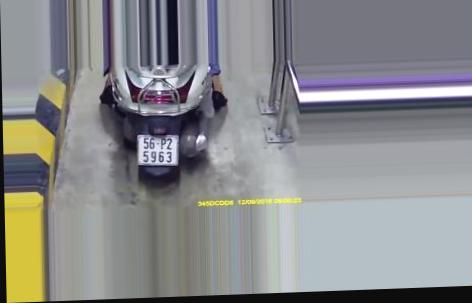License_Plate: (132, 129, 180, 170)
